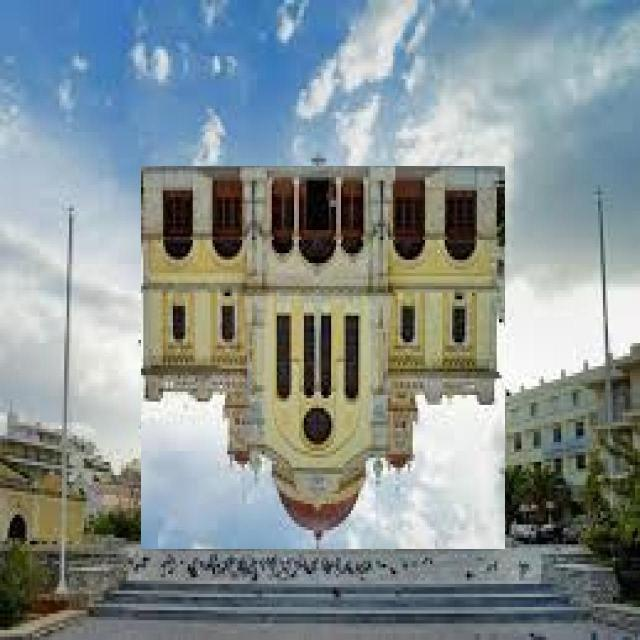Agios Minas: (142, 167, 506, 550)
